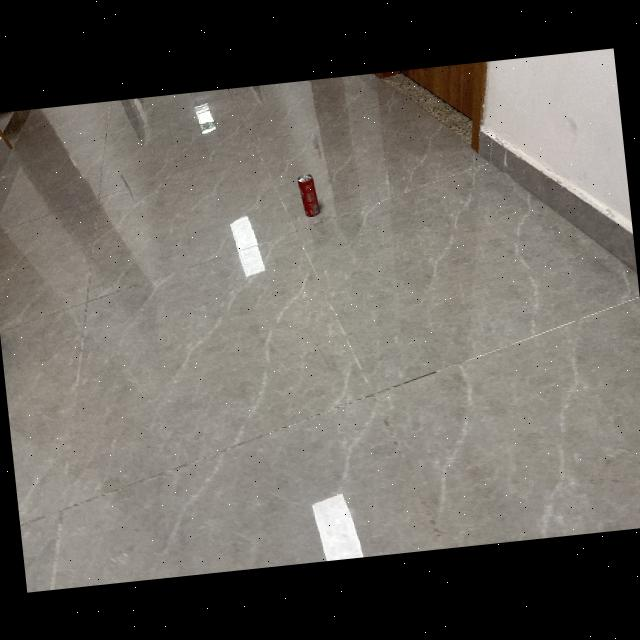Cola: (291, 167, 325, 224)
